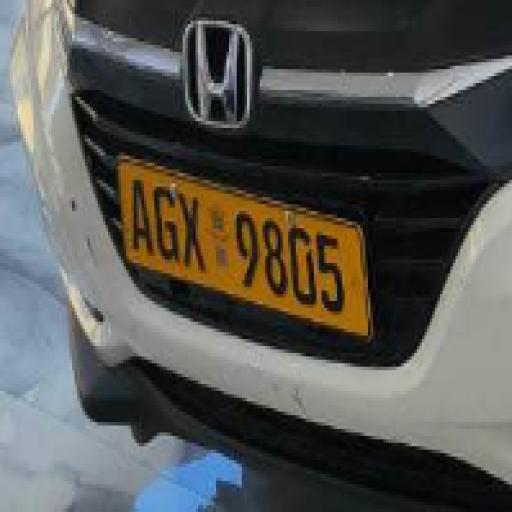number-plates: (118, 158, 348, 324)
